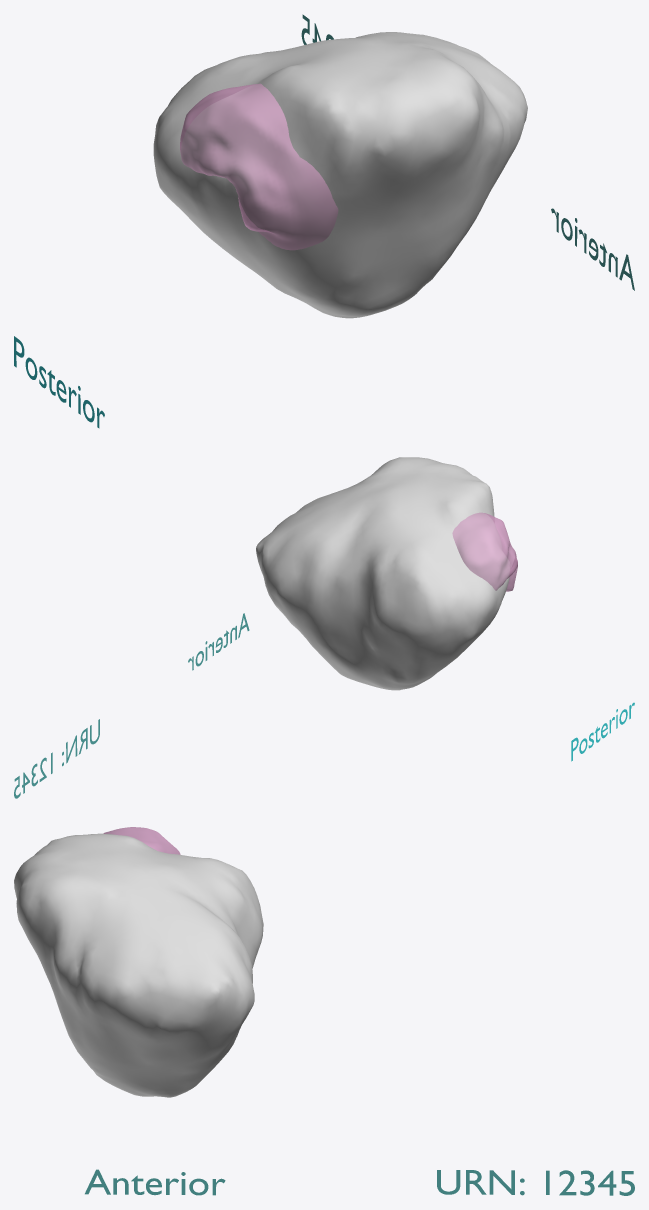
The model's file is prostate.glb.
The picture shows the model from 3 angles, top to bottom: view 1: azimuth 30°, elevation 25°; view 2: azimuth 150°, elevation 25°; view 3: azimuth 270°, elevation 25°; orthographic projection. The views are drawn at different scales.
Visible parts, largest first — view 1: ProstateMRIPPMF17smoothed2Fixed, TumourSUV4, Text.002, Text.001; view 2: ProstateMRIPPMF17smoothed2Fixed, TumourSUV4, Text.003, Text.002, Text.001; view 3: ProstateMRIPPMF17smoothed2Fixed, Text.003, Text.001, TumourSUV4.
Boxes of the visible parts, left/top/right/bottom form: ProstateMRIPPMF17smoothed2Fixed: left=153, top=32, right=527, bottom=318; TumourSUV4: left=180, top=83, right=338, bottom=250; Text.002: left=14, top=336, right=104, bottom=428; Text.001: left=551, top=208, right=634, bottom=290; ProstateMRIPPMF17smoothed2Fixed: left=256, top=457, right=510, bottom=690; TumourSUV4: left=452, top=512, right=517, bottom=591; Text.003: left=14, top=719, right=99, bottom=798; Text.002: left=571, top=702, right=634, bottom=761; Text.001: left=188, top=613, right=249, bottom=670; ProstateMRIPPMF17smoothed2Fixed: left=14, top=833, right=263, bottom=1097; Text.003: left=437, top=1170, right=634, bottom=1195; Text.001: left=85, top=1169, right=225, bottom=1195; TumourSUV4: left=103, top=827, right=180, bottom=854.
Bounding box in the file's own units: 12.94 × 6.52 × 15.58.
